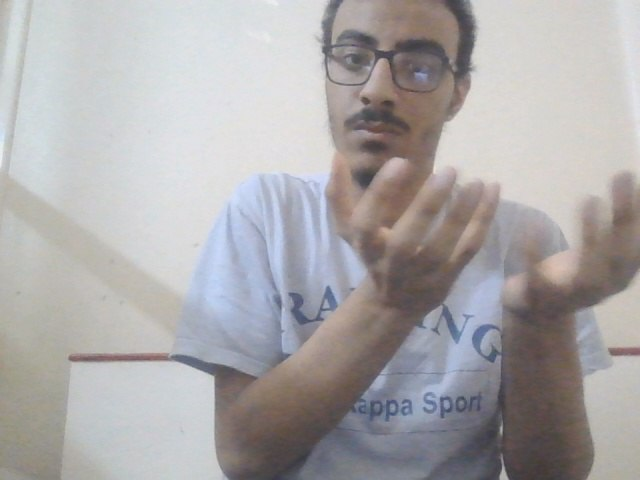What: (313, 145, 640, 310)
